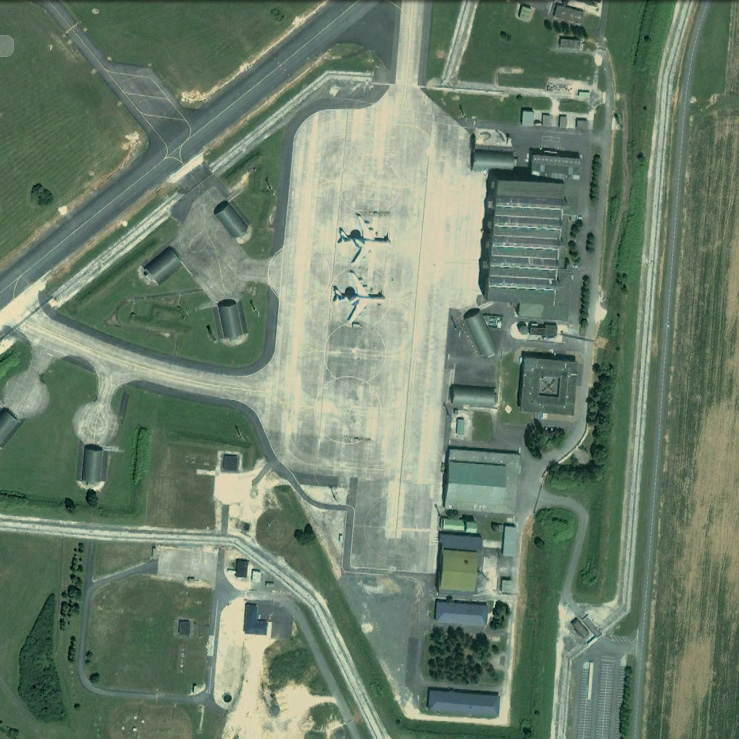A7: (332, 271, 387, 324), (338, 213, 392, 266)
